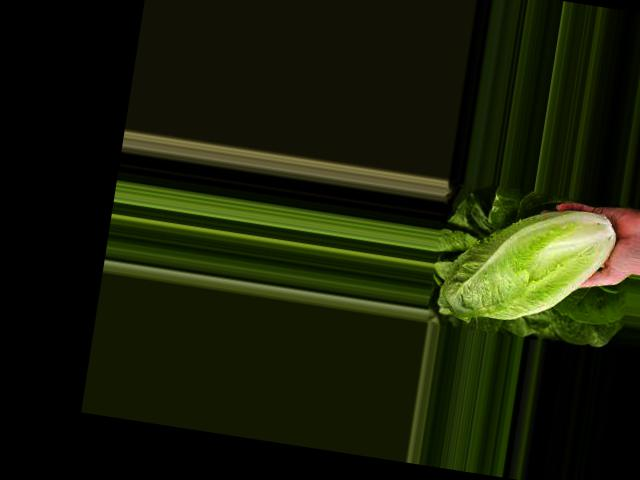lettuce: (438, 169, 603, 338)
